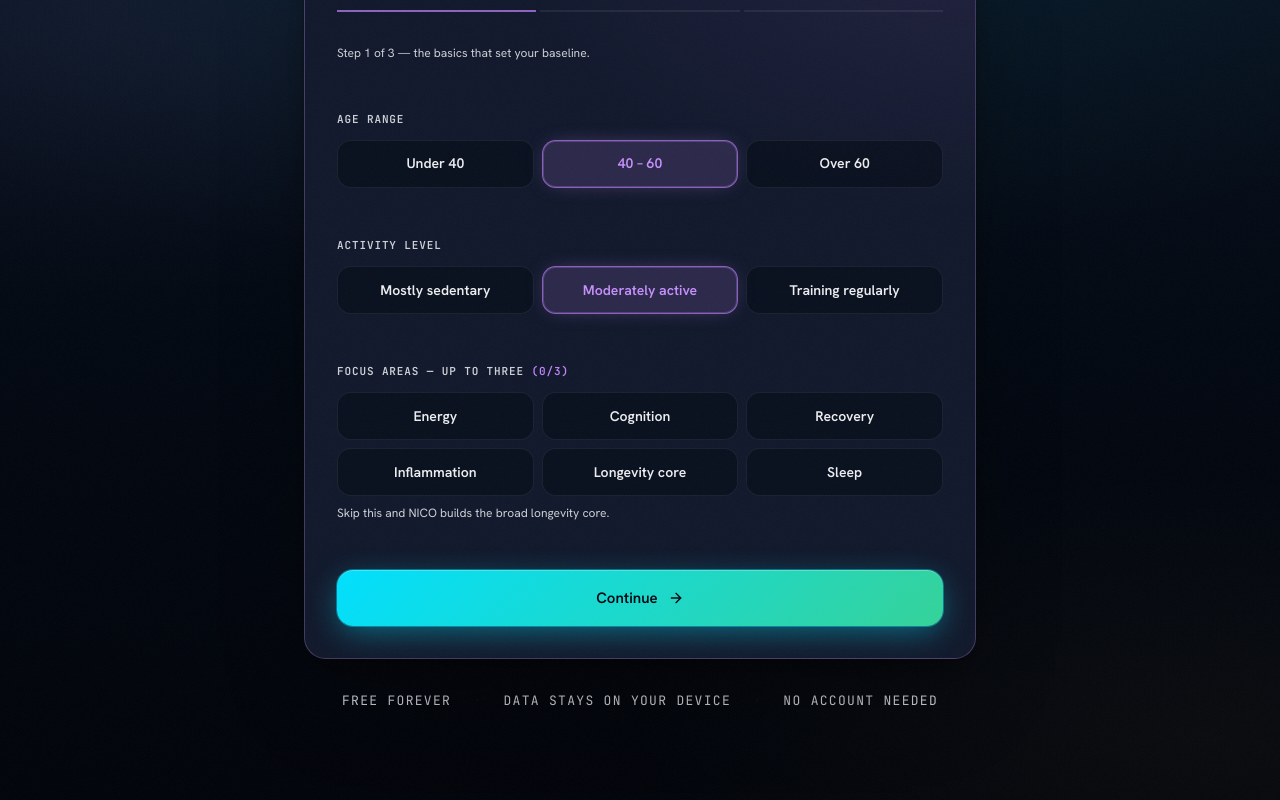
Test: HomeNicoStarter › walks three steps and reaches the safety screen
(page scrolled)
Step 1. Click the button "Continue" → (640,598), box [337,570,943,626]
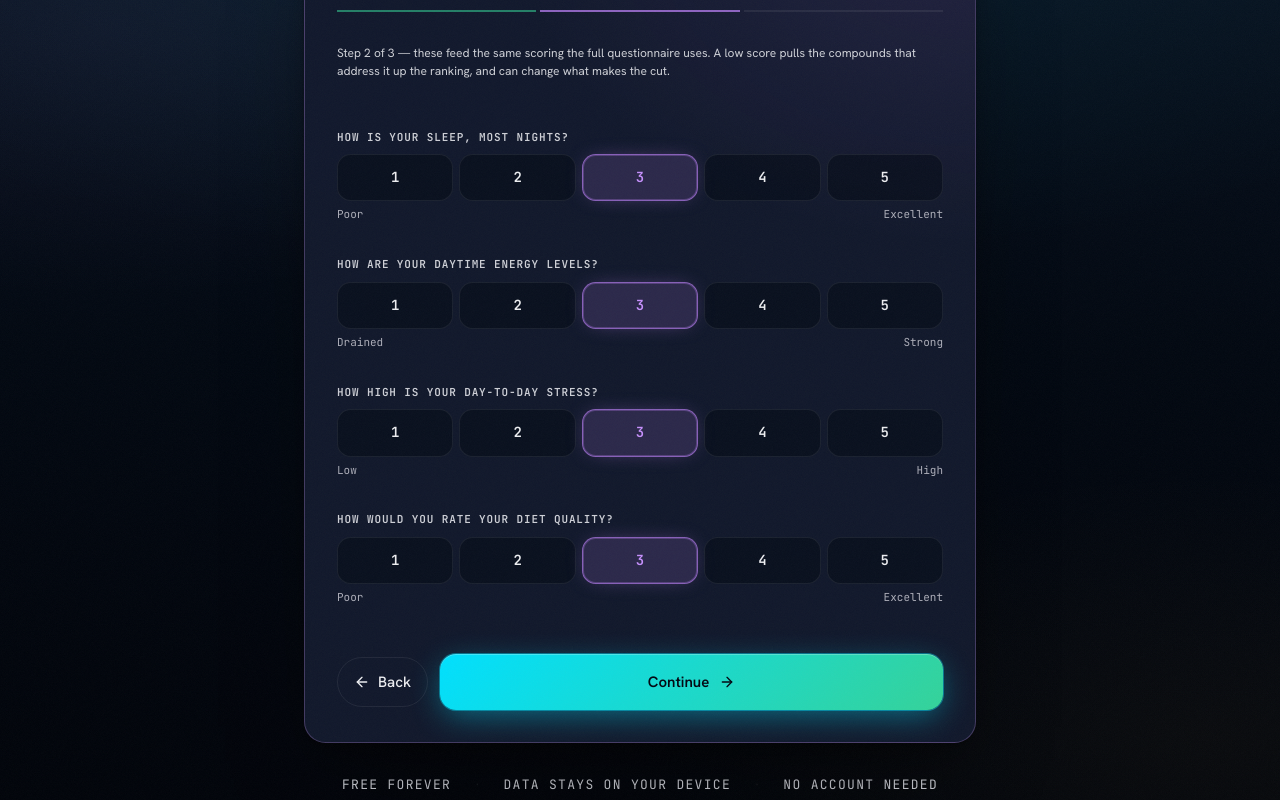
Step 2. Click the button "Continue" → (692,682), box [440,654,943,710]
(page scrolled)
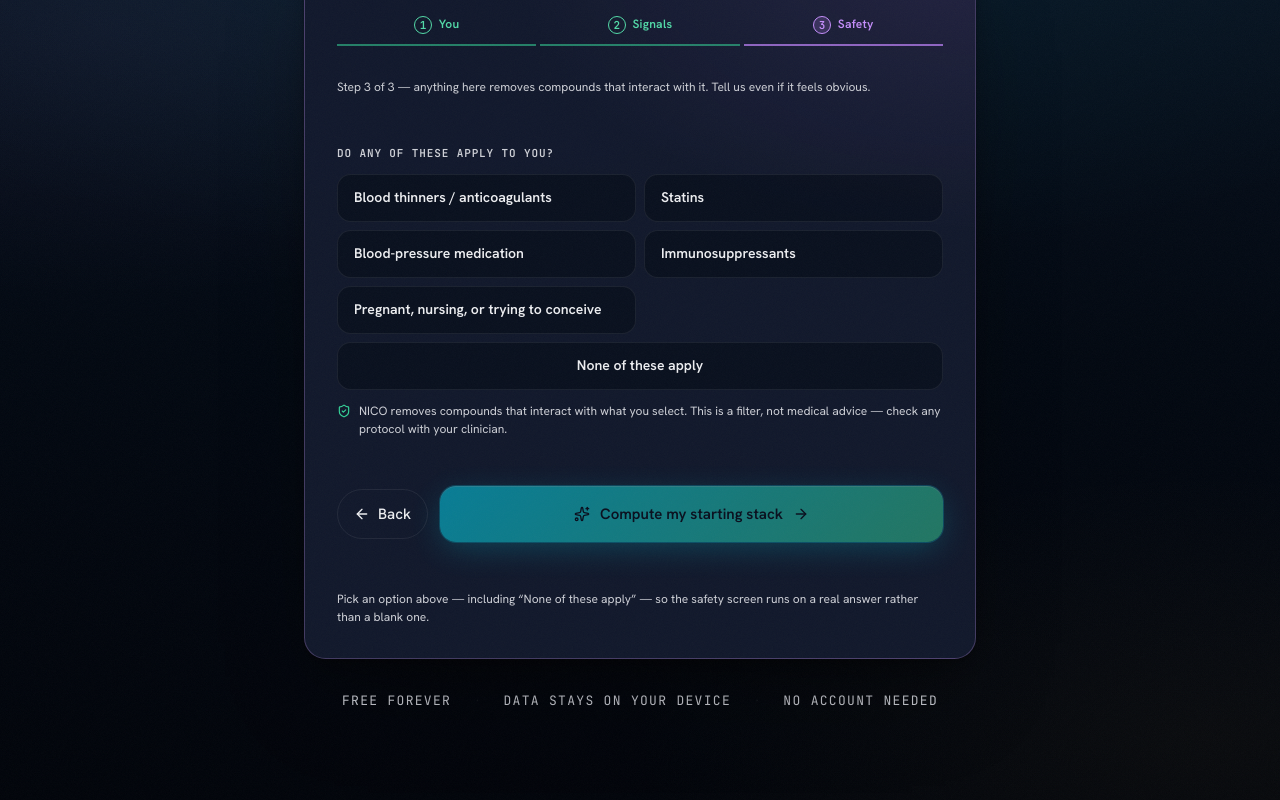
Expected: the text "Blood thinners / anticoagulants" is shown, [337,174,636,222]
Expected: the text "Statins" is shown, [644,174,943,222]
Expected: the text "Blood-pressure medication" is shown, [337,230,636,278]
